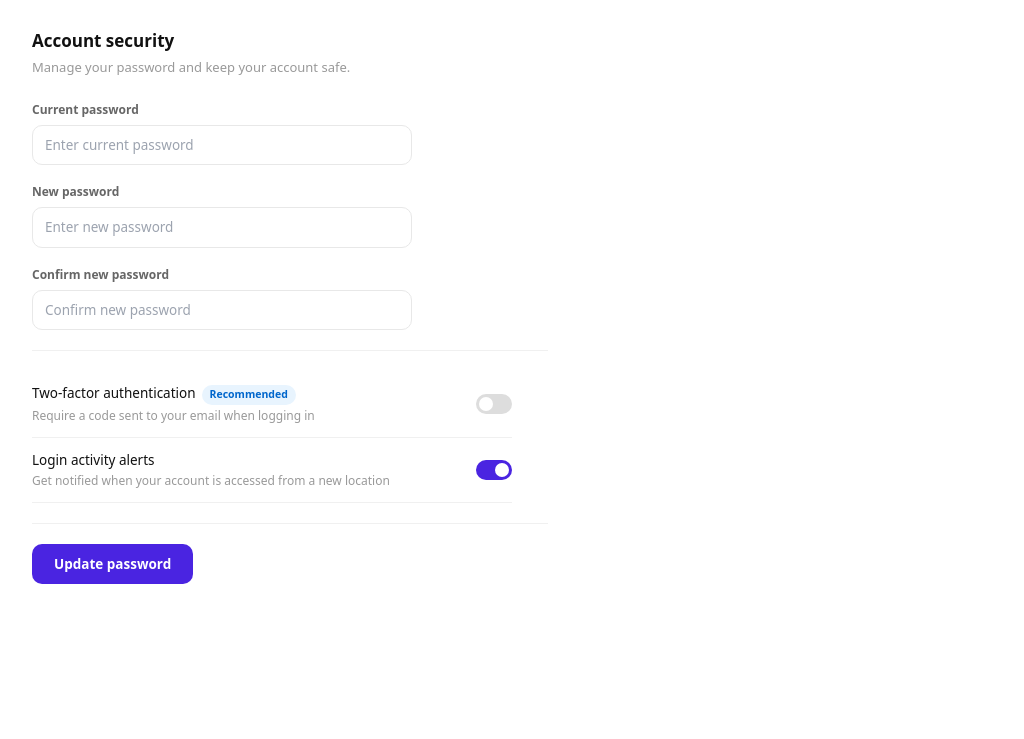
Test: SecuritySection › enabling two-factor authentication › can resend the code without leaving the OTP step
Click the checkbox in the row of "Recommended" at (494, 404), box [476, 394, 512, 414]
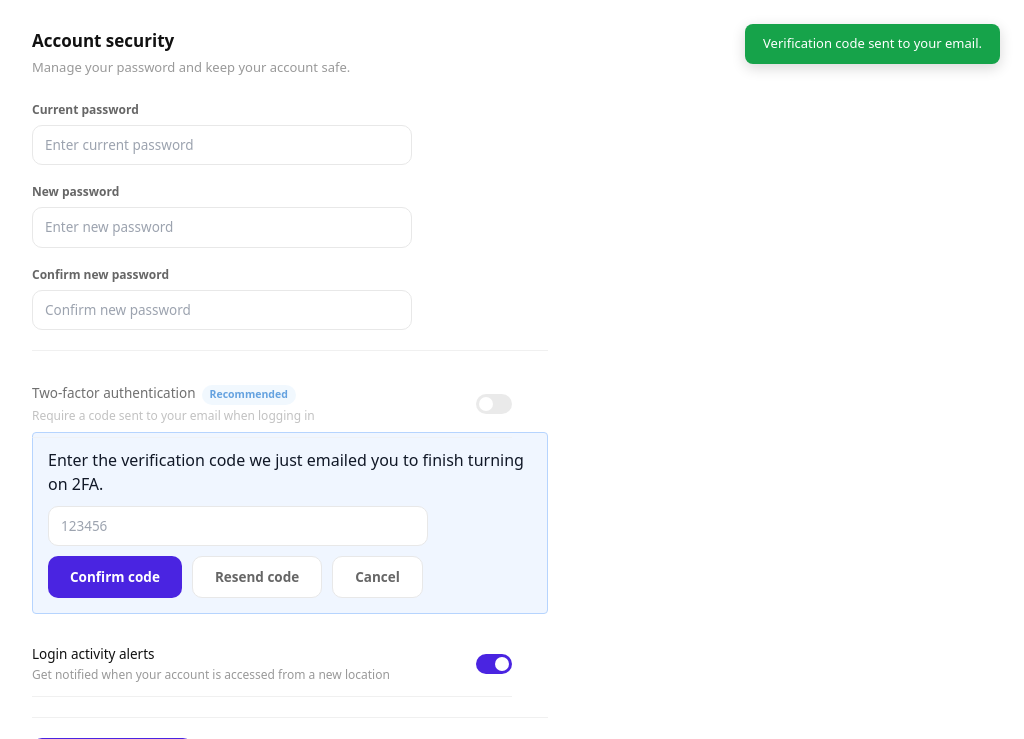
Check: the text "Enter the verification code" is shown, box [48, 448, 524, 494]
Click the button "Resend code" at (257, 577), box [192, 556, 322, 598]
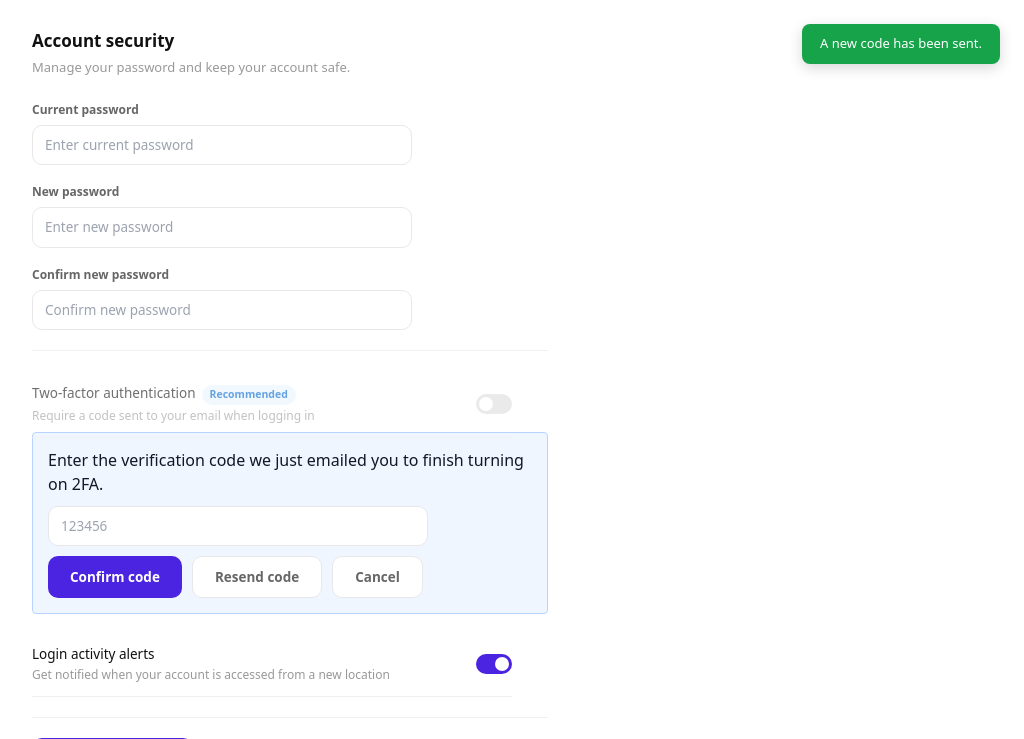
Check: the text "A new code has been sent." is shown, box [802, 24, 1000, 64]
